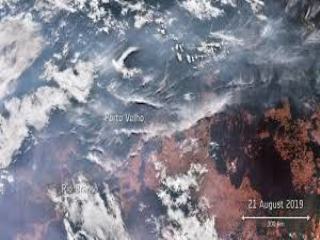smoke: (146, 167, 219, 237)
